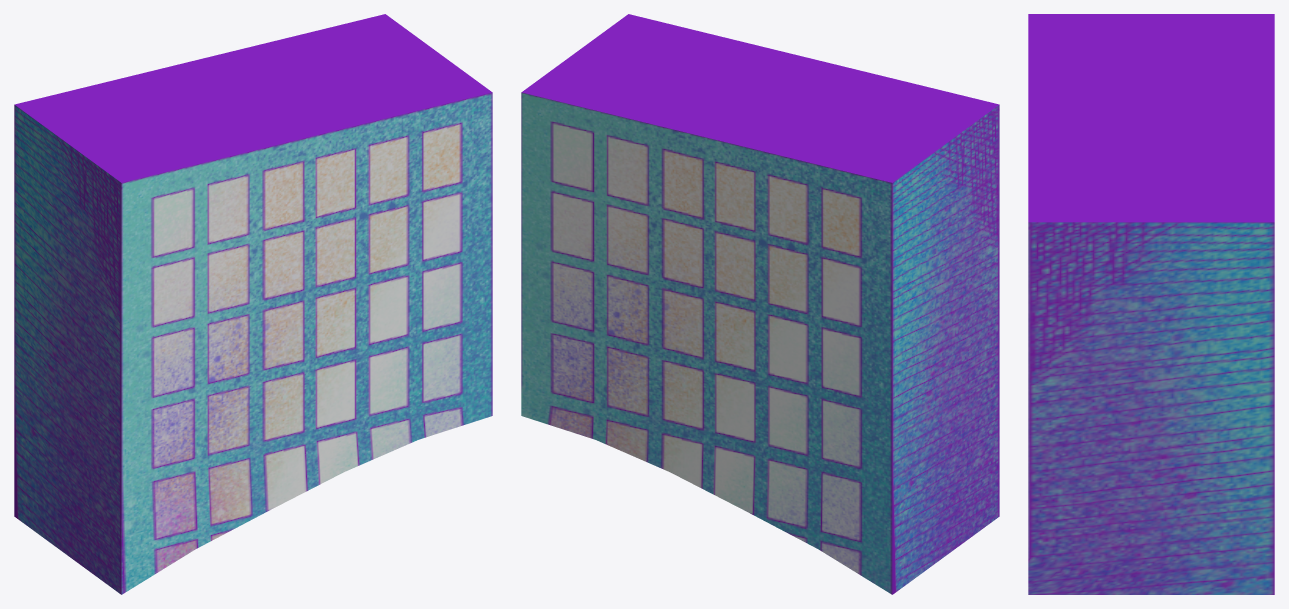
Rendered from Build_A.obj.
3 renders of one model, left to right at view 1: azimuth 30°, elevation 25°; view 2: azimuth 150°, elevation 25°; view 3: azimuth 270°, elevation 25°, orthographic. The views are drawn at different scales.
Visible parts, largest first — view 1: Build_A; view 2: Build_A; view 3: Build_A.
Part boxes in pixels (<box>): Build_A: <box>14,14,492,594</box>; Build_A: <box>521,14,999,594</box>; Build_A: <box>1028,14,1274,594</box>.
Bounding box in the file's own units: 40 × 42.45 × 20.
1 material, 1 textured.
